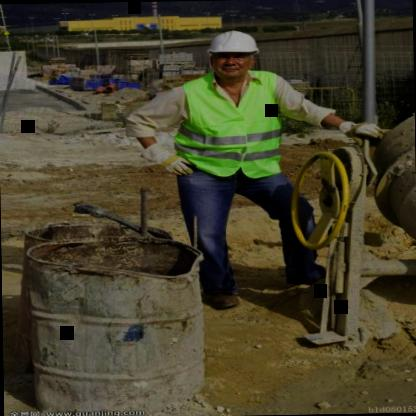helmet: (200, 25, 267, 82)
